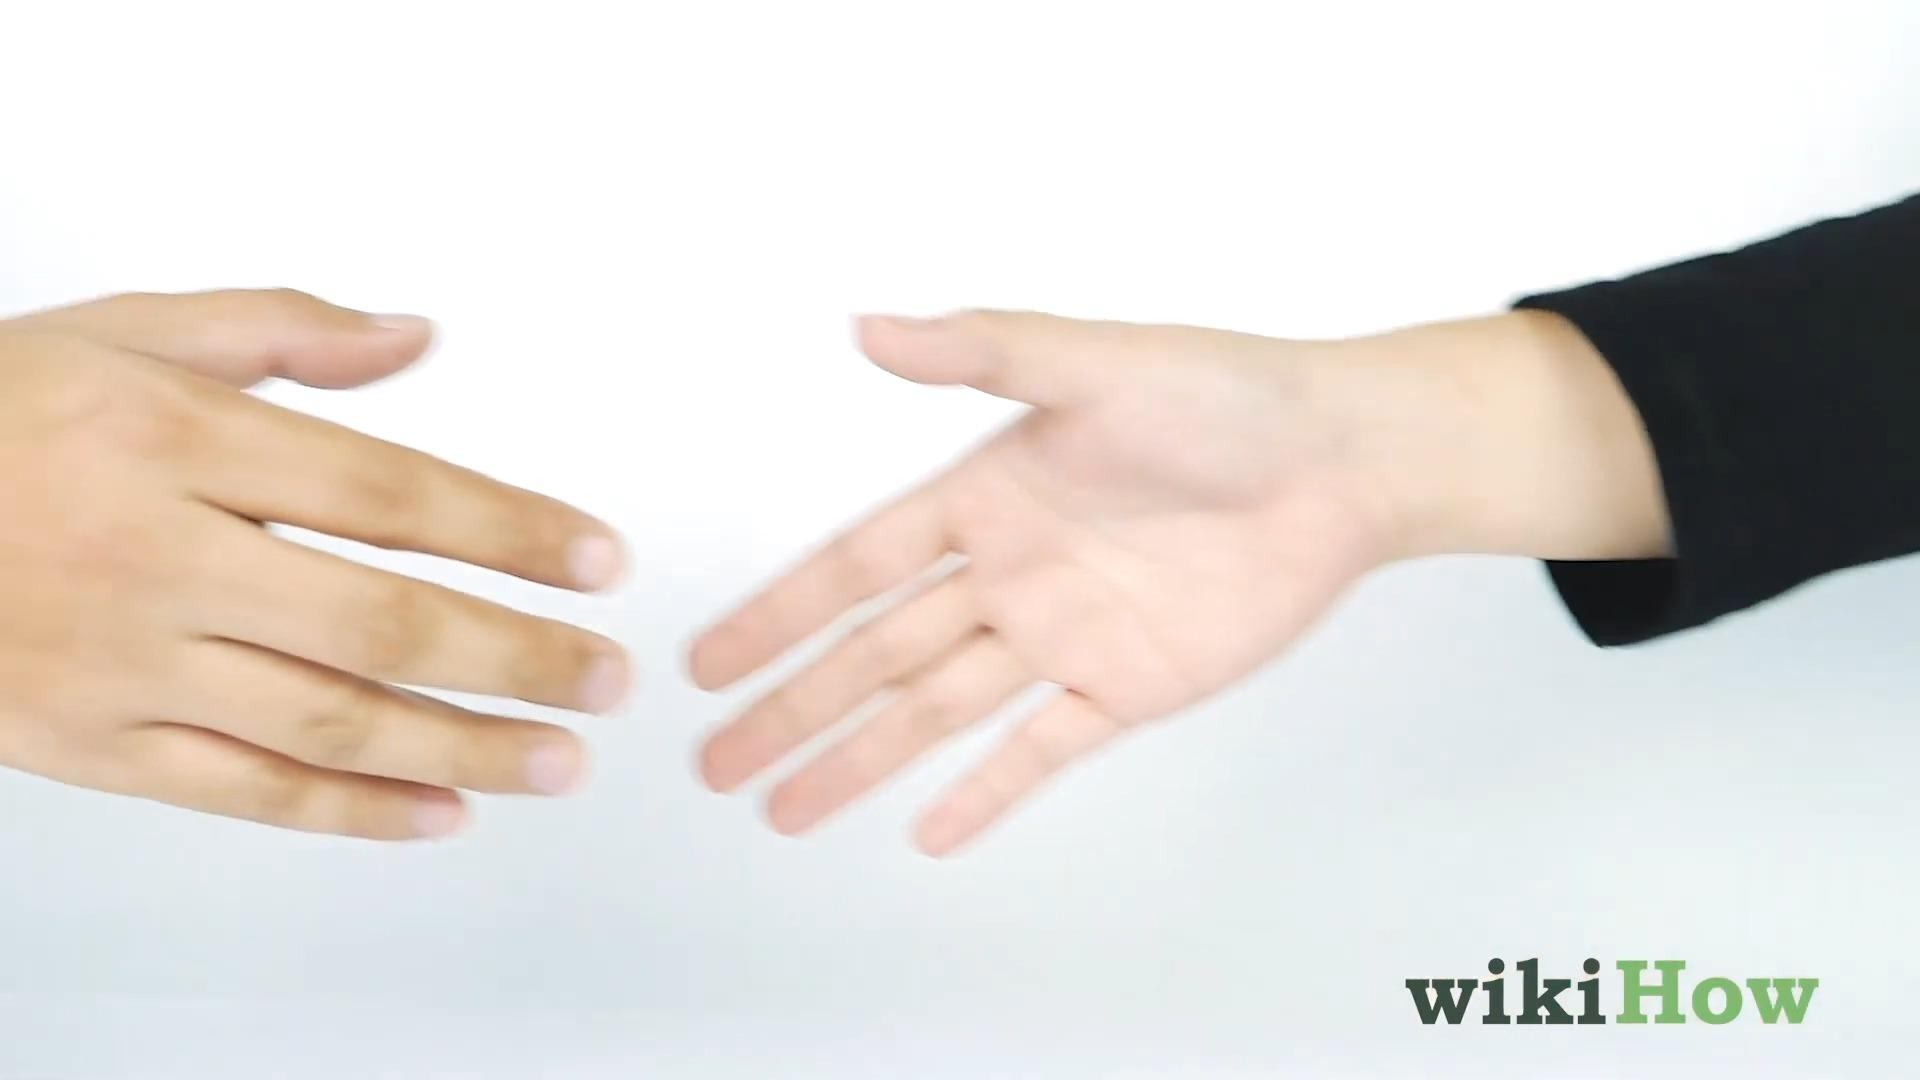Paper: (683, 307, 1373, 857), (0, 287, 637, 849)
